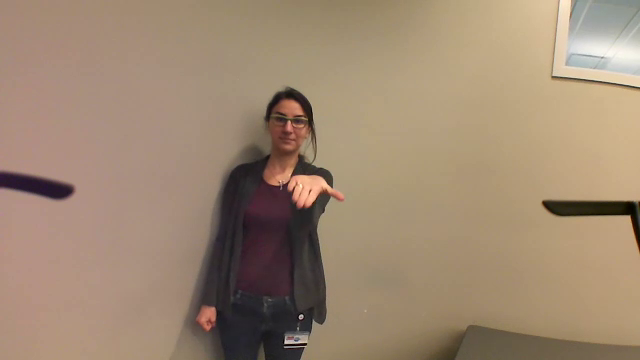land: (282, 167, 352, 214)
